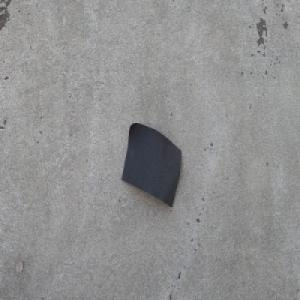PaintChip: (120, 122, 182, 208)
